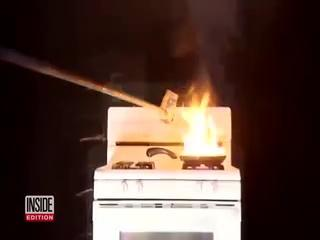Fire: (176, 80, 222, 162)
